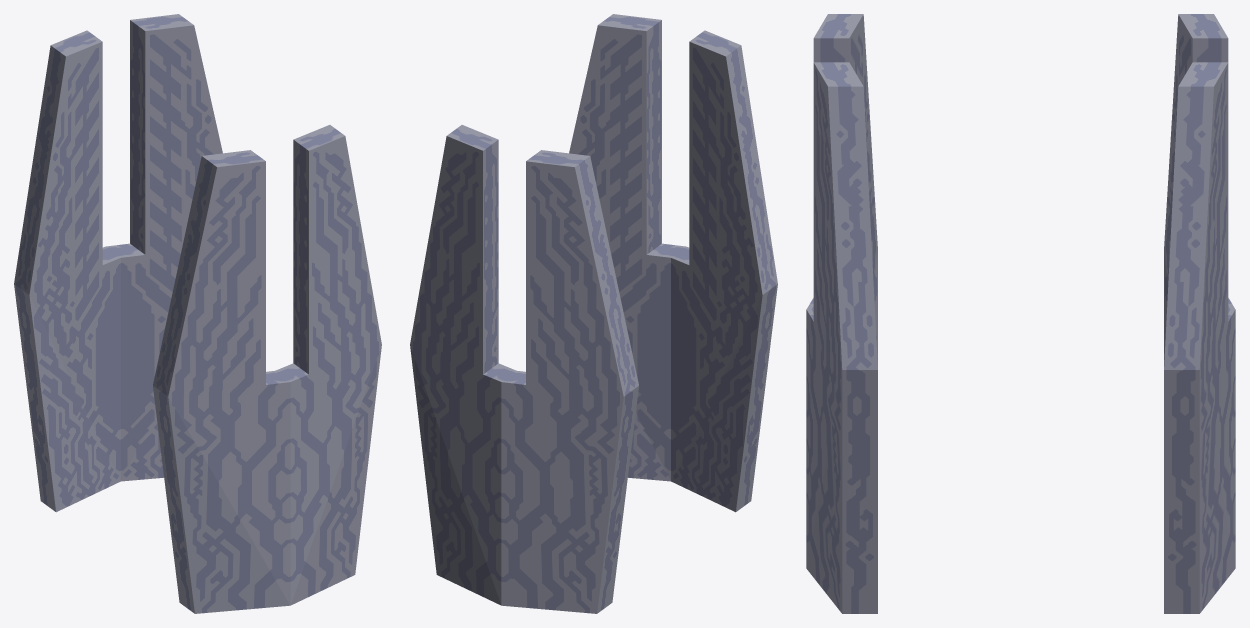
Rendered from wavefront.fbx.
3 views of the same model, side by side, from view 1: azimuth 30°, elevation 25°; view 2: azimuth 150°, elevation 25°; view 3: azimuth 270°, elevation 25° (orthographic). The views are drawn at different scales.
Parts seen in each view (by area): view 1: Cube_Cube.001; view 2: Cube_Cube.001; view 3: Cube_Cube.001.
Part boxes in pixels (x1,y1,x2,y2): Cube_Cube.001: (14,14,381,613); Cube_Cube.001: (410,14,777,613); Cube_Cube.001: (806,14,1235,613).
Bounding box in the file's own units: 200 × 400 × 300.
Materials: 1 (1 with a texture image).
